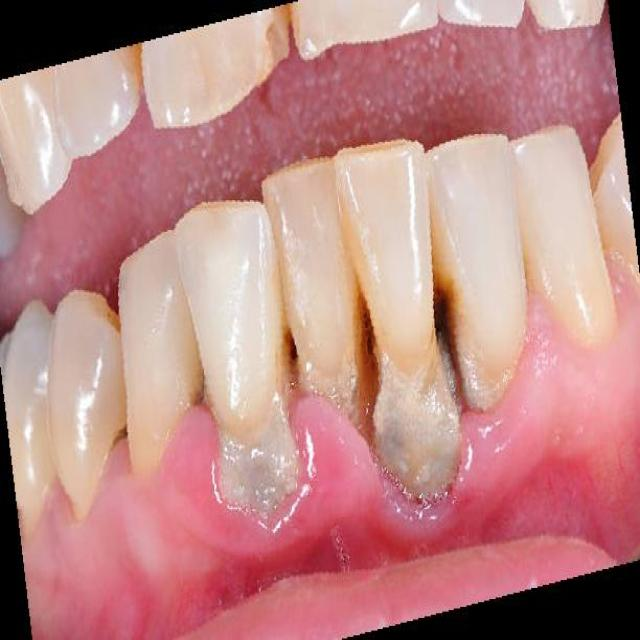caries: (264, 2, 322, 89), (424, 264, 464, 335), (276, 312, 304, 372)
